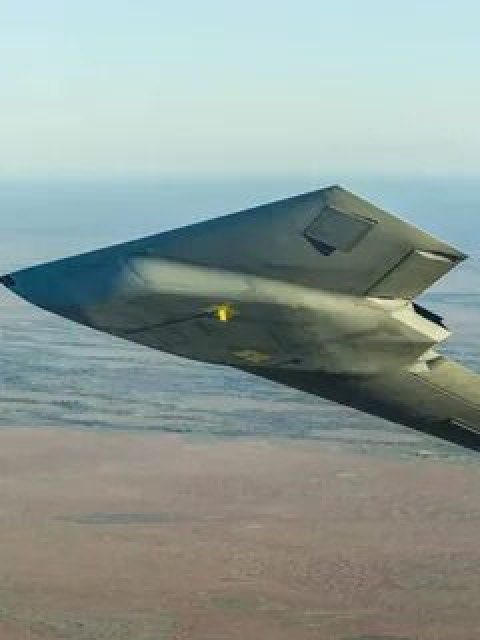military drone: (0, 183, 480, 452)
